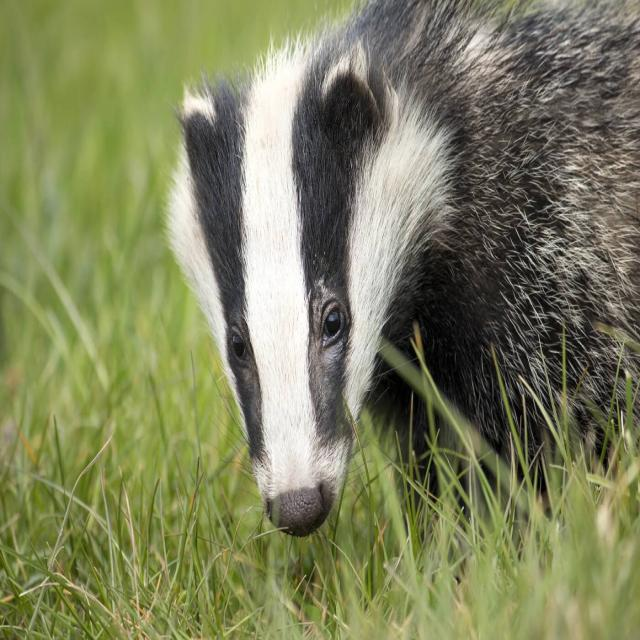Badger: (160, 3, 640, 553)
